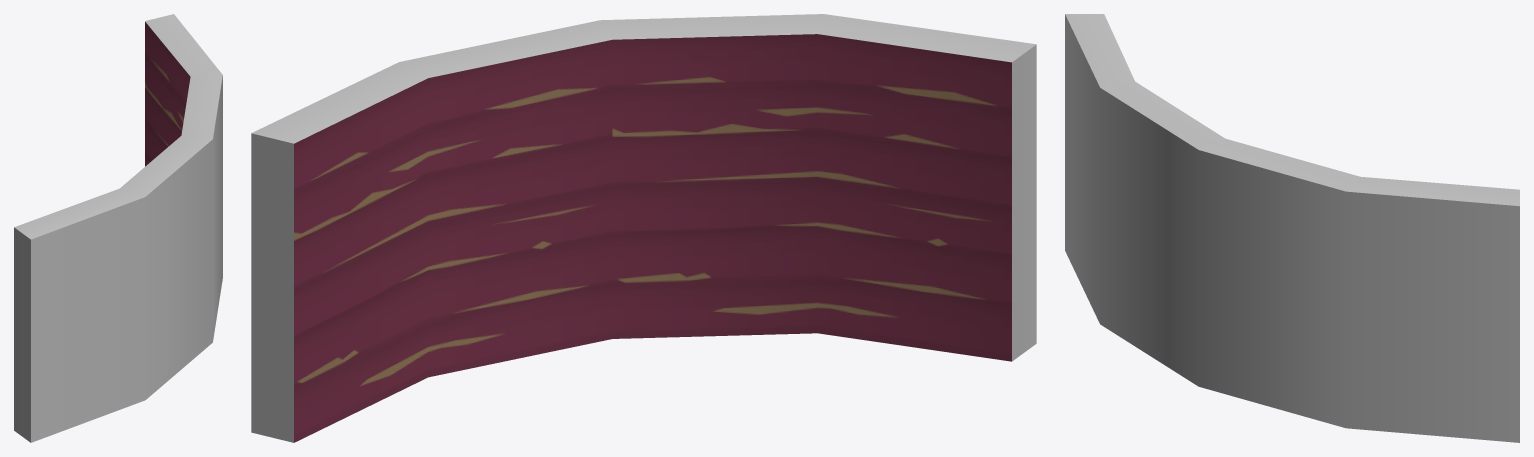
The model's file is SM_Bld_Wall_Curved_M_Half_01_Collision.fbx.
3 renders of one model, left to right at view 1: azimuth 30°, elevation 25°; view 2: azimuth 150°, elevation 25°; view 3: azimuth 270°, elevation 25°, orthographic. The views are drawn at different scales.
Parts seen in each view (by area): view 1: SM_Bld_Wall_Curved_M_Half_01_Collision; view 2: SM_Bld_Wall_Curved_M_Half_01_Collision; view 3: SM_Bld_Wall_Curved_M_Half_01_Collision.
Boxes of the visible parts, x1,y1,x2,y2 form: SM_Bld_Wall_Curved_M_Half_01_Collision: [14, 14, 222, 442]; SM_Bld_Wall_Curved_M_Half_01_Collision: [251, 14, 1036, 442]; SM_Bld_Wall_Curved_M_Half_01_Collision: [1065, 14, 1519, 442].
Bounding box in the file's own units: 261 × 150 × 261.
